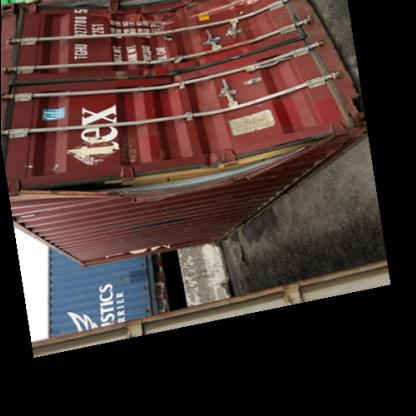Damage: (83, 131, 307, 213)
